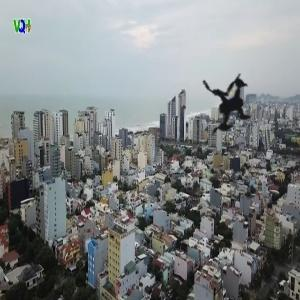drone: (174, 46, 298, 170)
